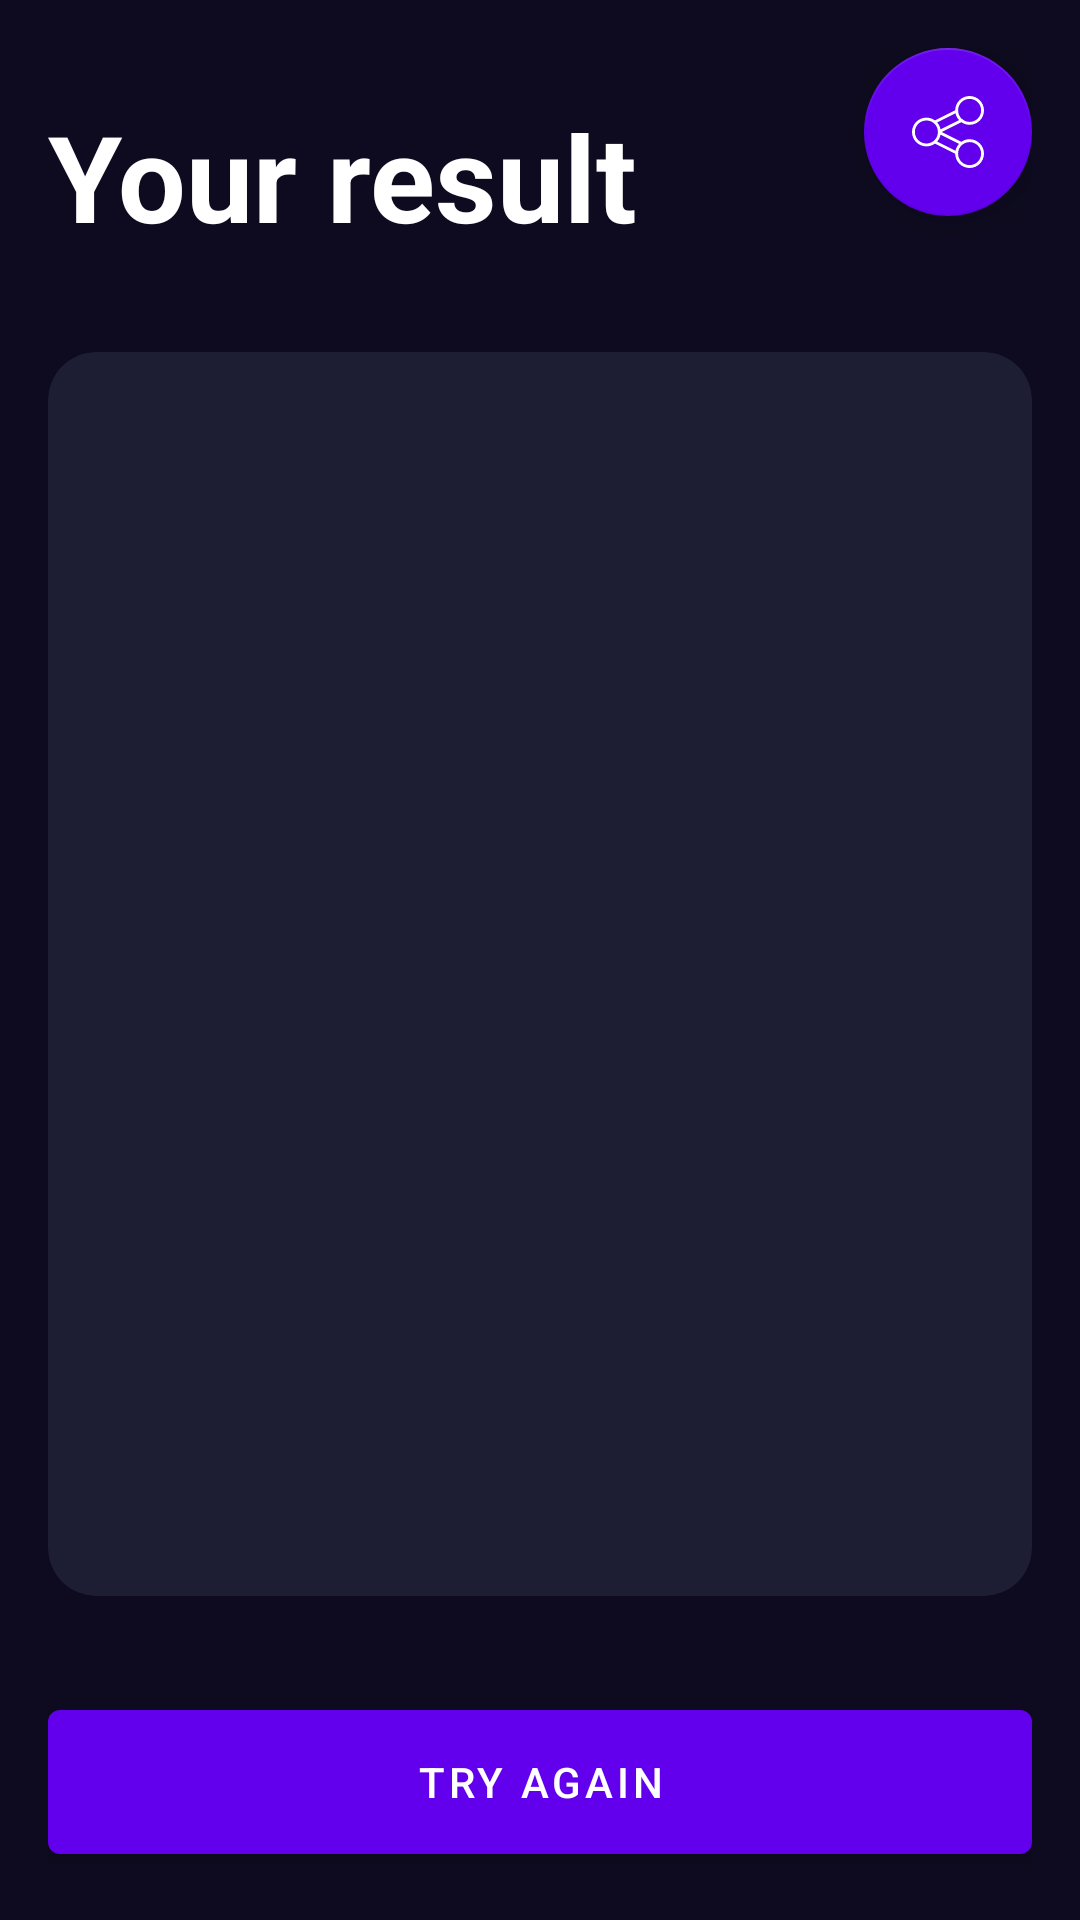

Screen size 1080 x 1920. Icon name, then its center in pixels as (x,y):
share: (948,132)
